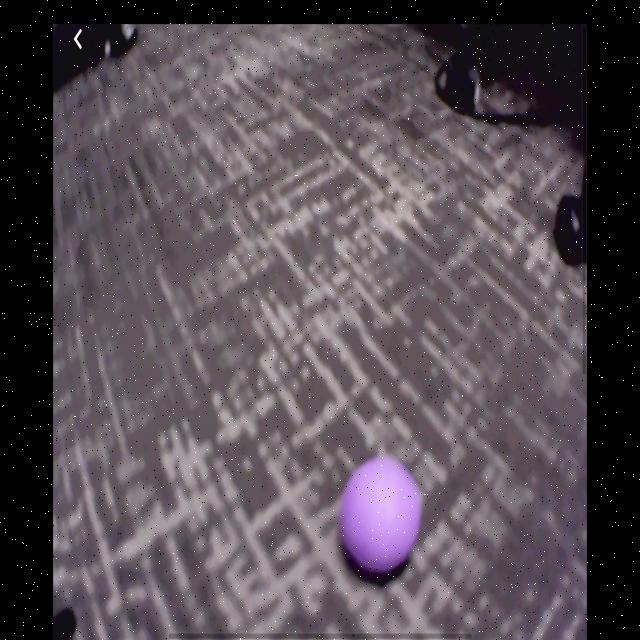ball: (337, 454, 423, 578)
